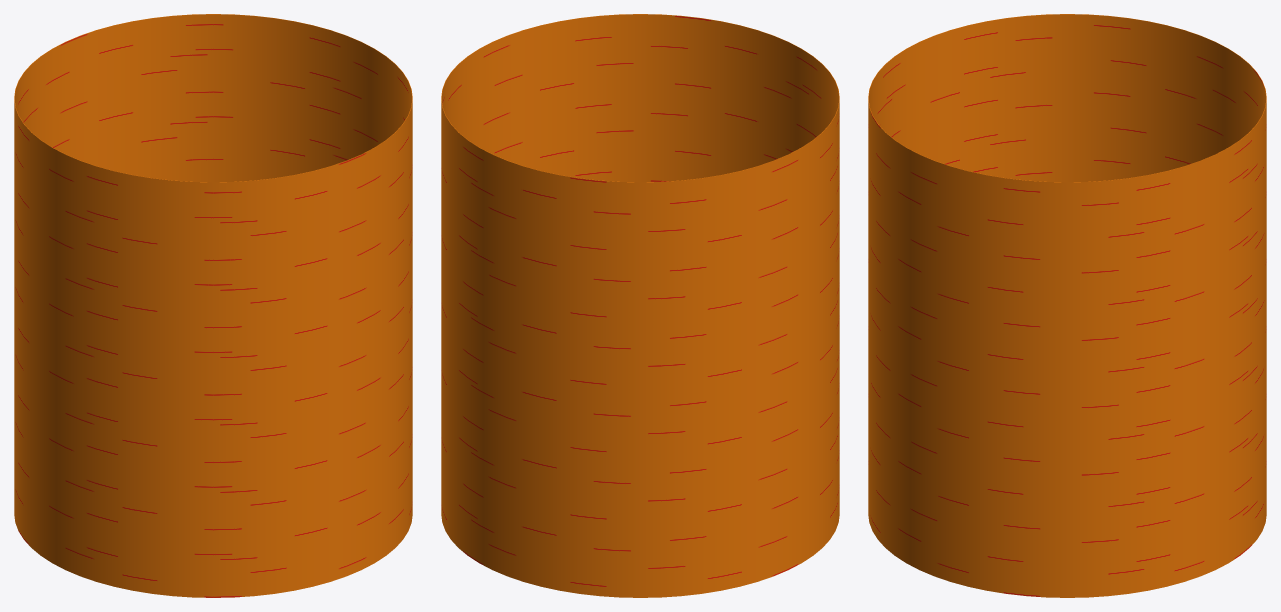
Rendered from CoreShield.fbx.
The picture shows the model from 3 angles, left to right: view 1: azimuth 30°, elevation 25°; view 2: azimuth 150°, elevation 25°; view 3: azimuth 270°, elevation 25°; orthographic projection.
Visible parts, largest first — view 1: pPipe9; view 2: pPipe9; view 3: pPipe9.
Boxes of the visible parts, bbox=[...] form: pPipe9: bbox=[14, 14, 412, 597]; pPipe9: bbox=[441, 14, 839, 597]; pPipe9: bbox=[868, 14, 1266, 597].
Size of the model in its own units: 10 by 11.5 by 10.
Materials: 1 (1 with a texture image).
